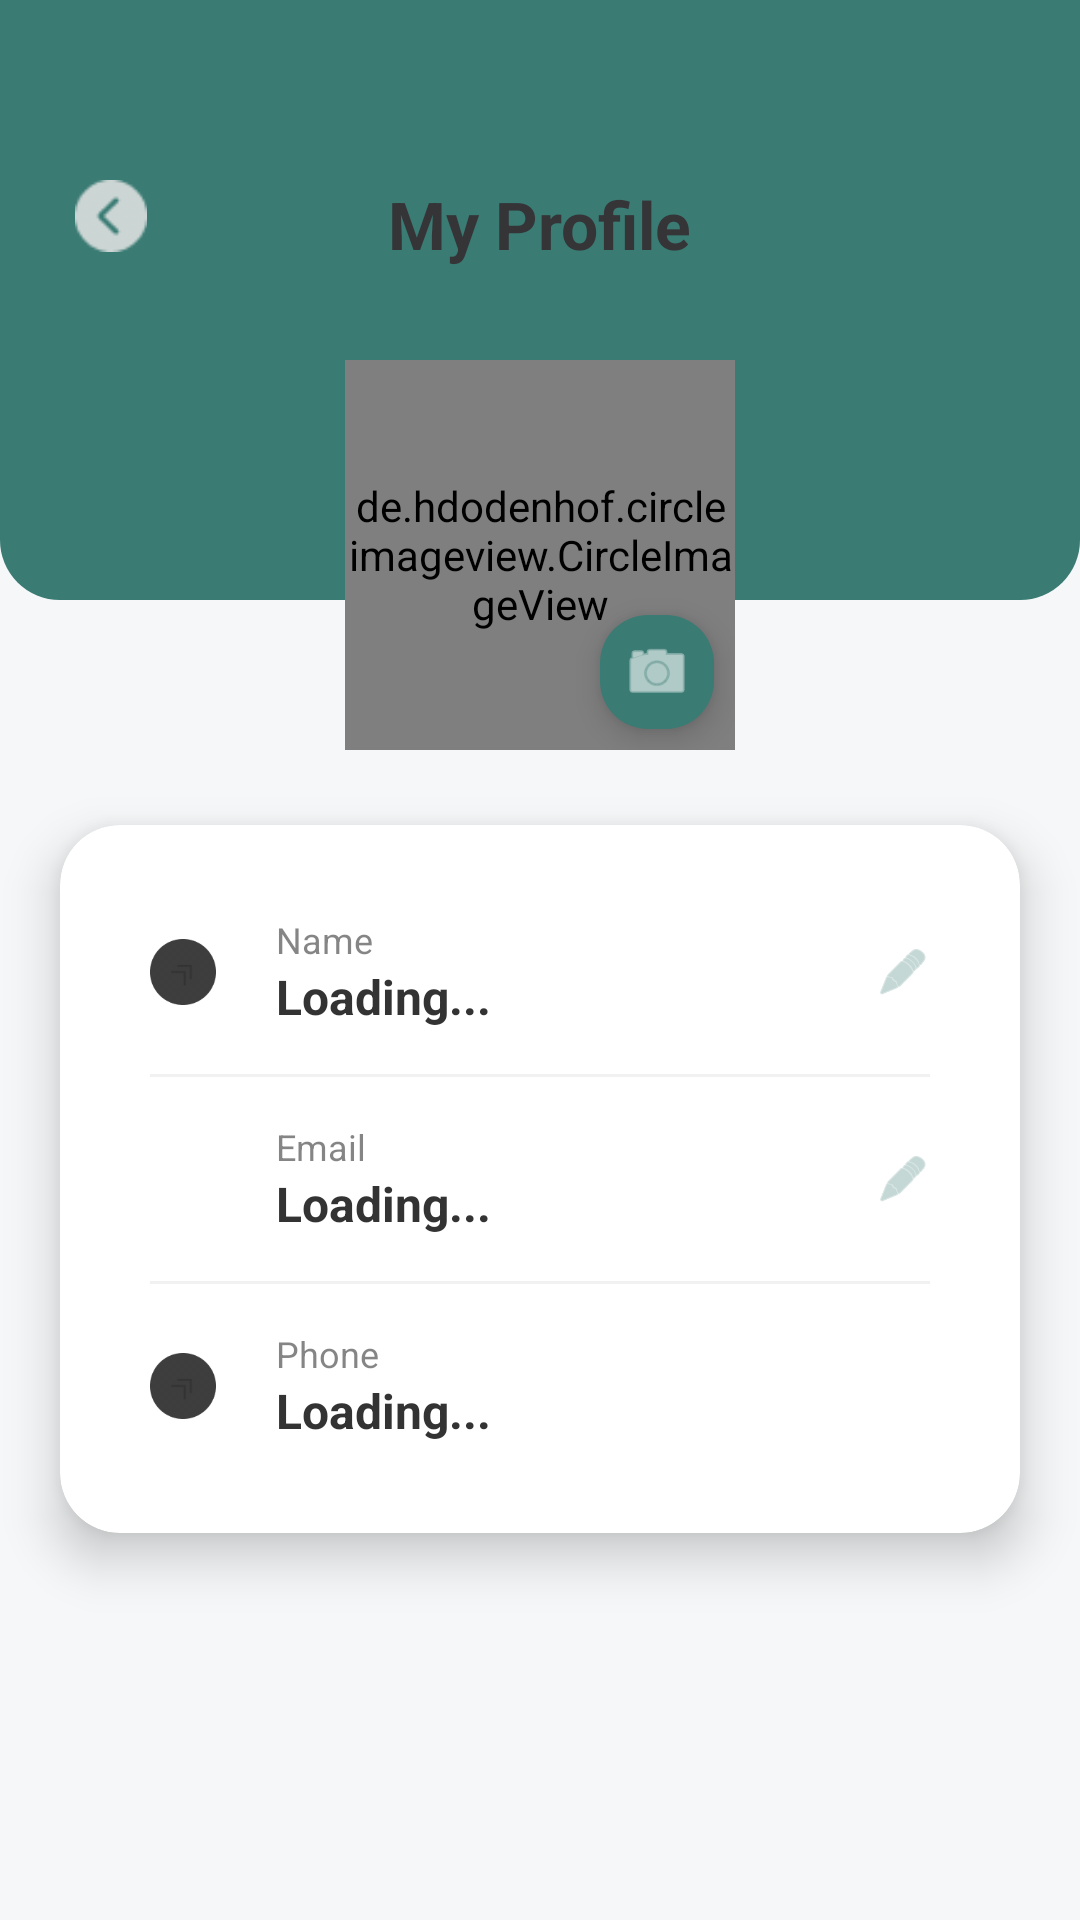

Where to tap for icons on this 1080×1920 app screen, as [x,y]:
camera: [657,672]
edit: [902,971], [902,1178]
